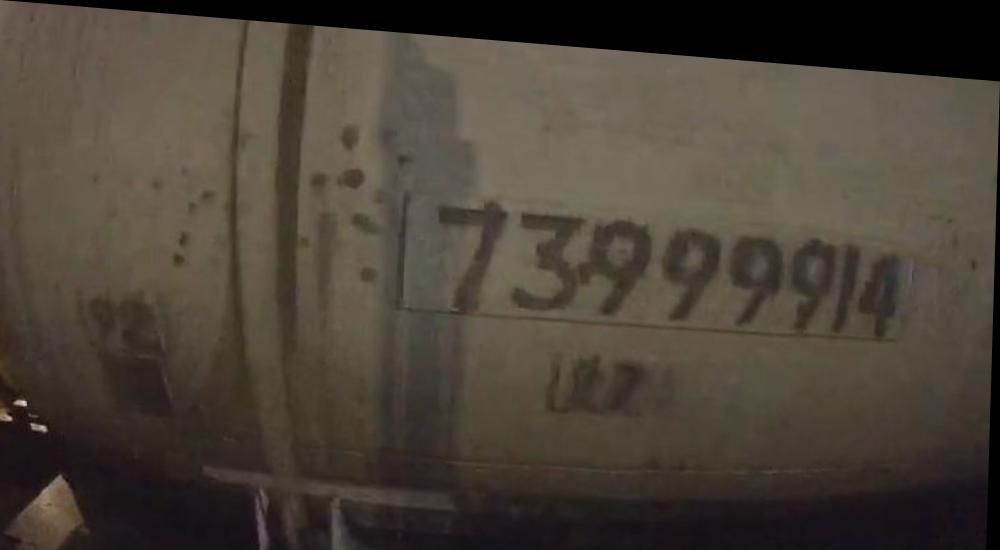Wagon-number: (432, 186, 906, 335)
